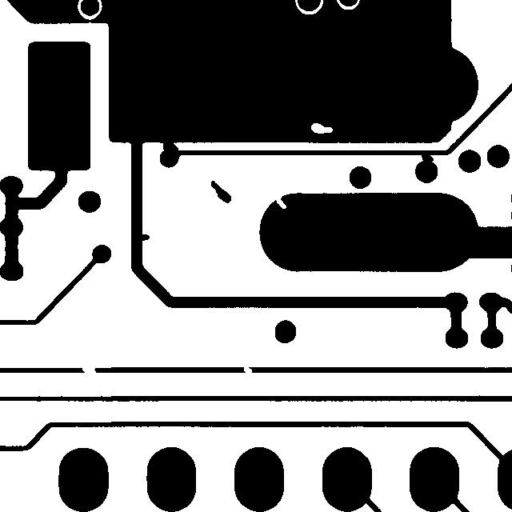copper: (203, 173, 238, 210)
mousebite: (268, 187, 294, 216)
open: (74, 358, 103, 384), (236, 358, 260, 384)
pin-hole: (303, 115, 340, 141)
short: (155, 133, 186, 163), (414, 145, 441, 174)
spur: (130, 226, 157, 249)
